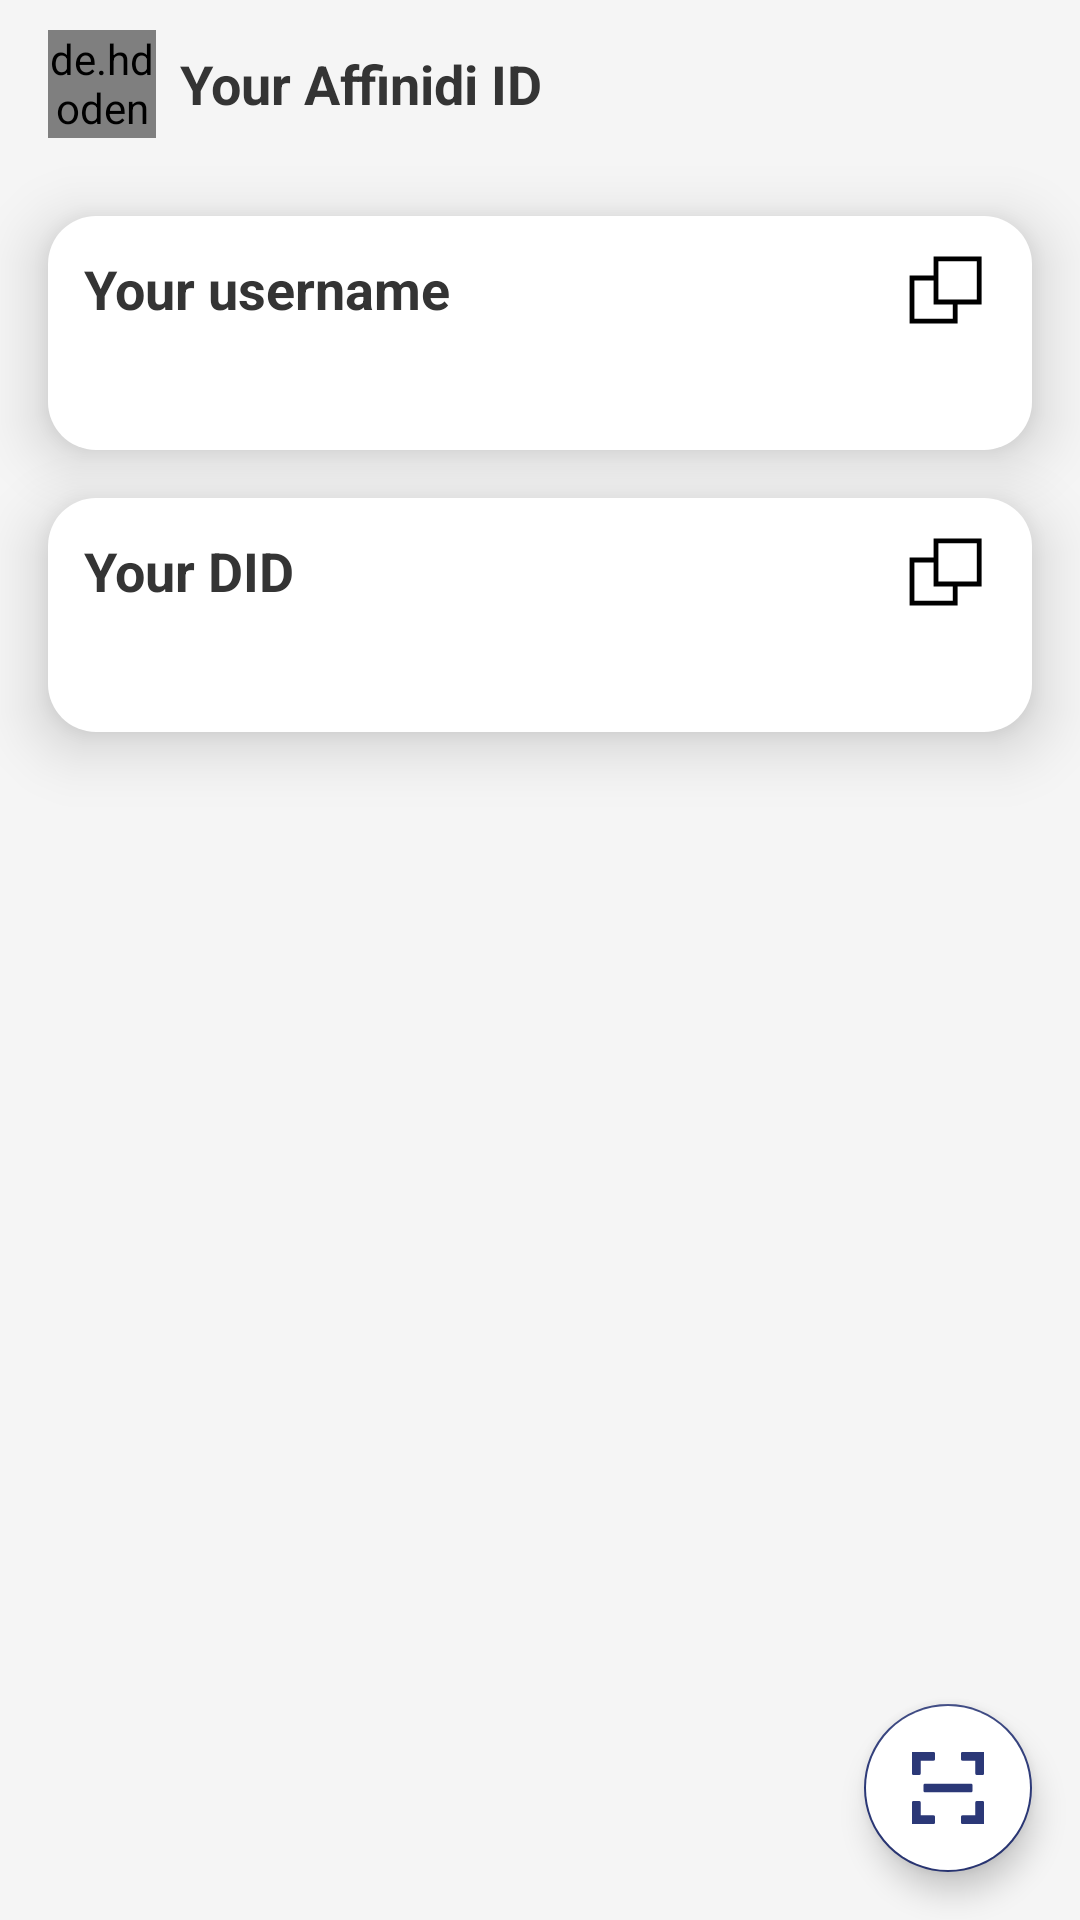

Point at icon controls on the screen. Image size 1080w x 1920h, points as point (x, y).
A button to copy DID: point (945, 572)
A button to copy username: point (945, 290)
This is a scan button to verify credential: point (948, 1788)
